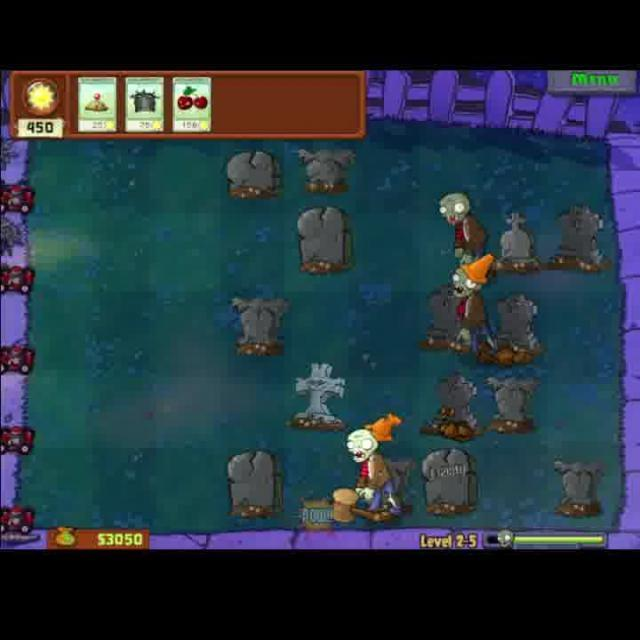zombies: (346, 411, 406, 516), (449, 254, 497, 352), (443, 181, 493, 272)
